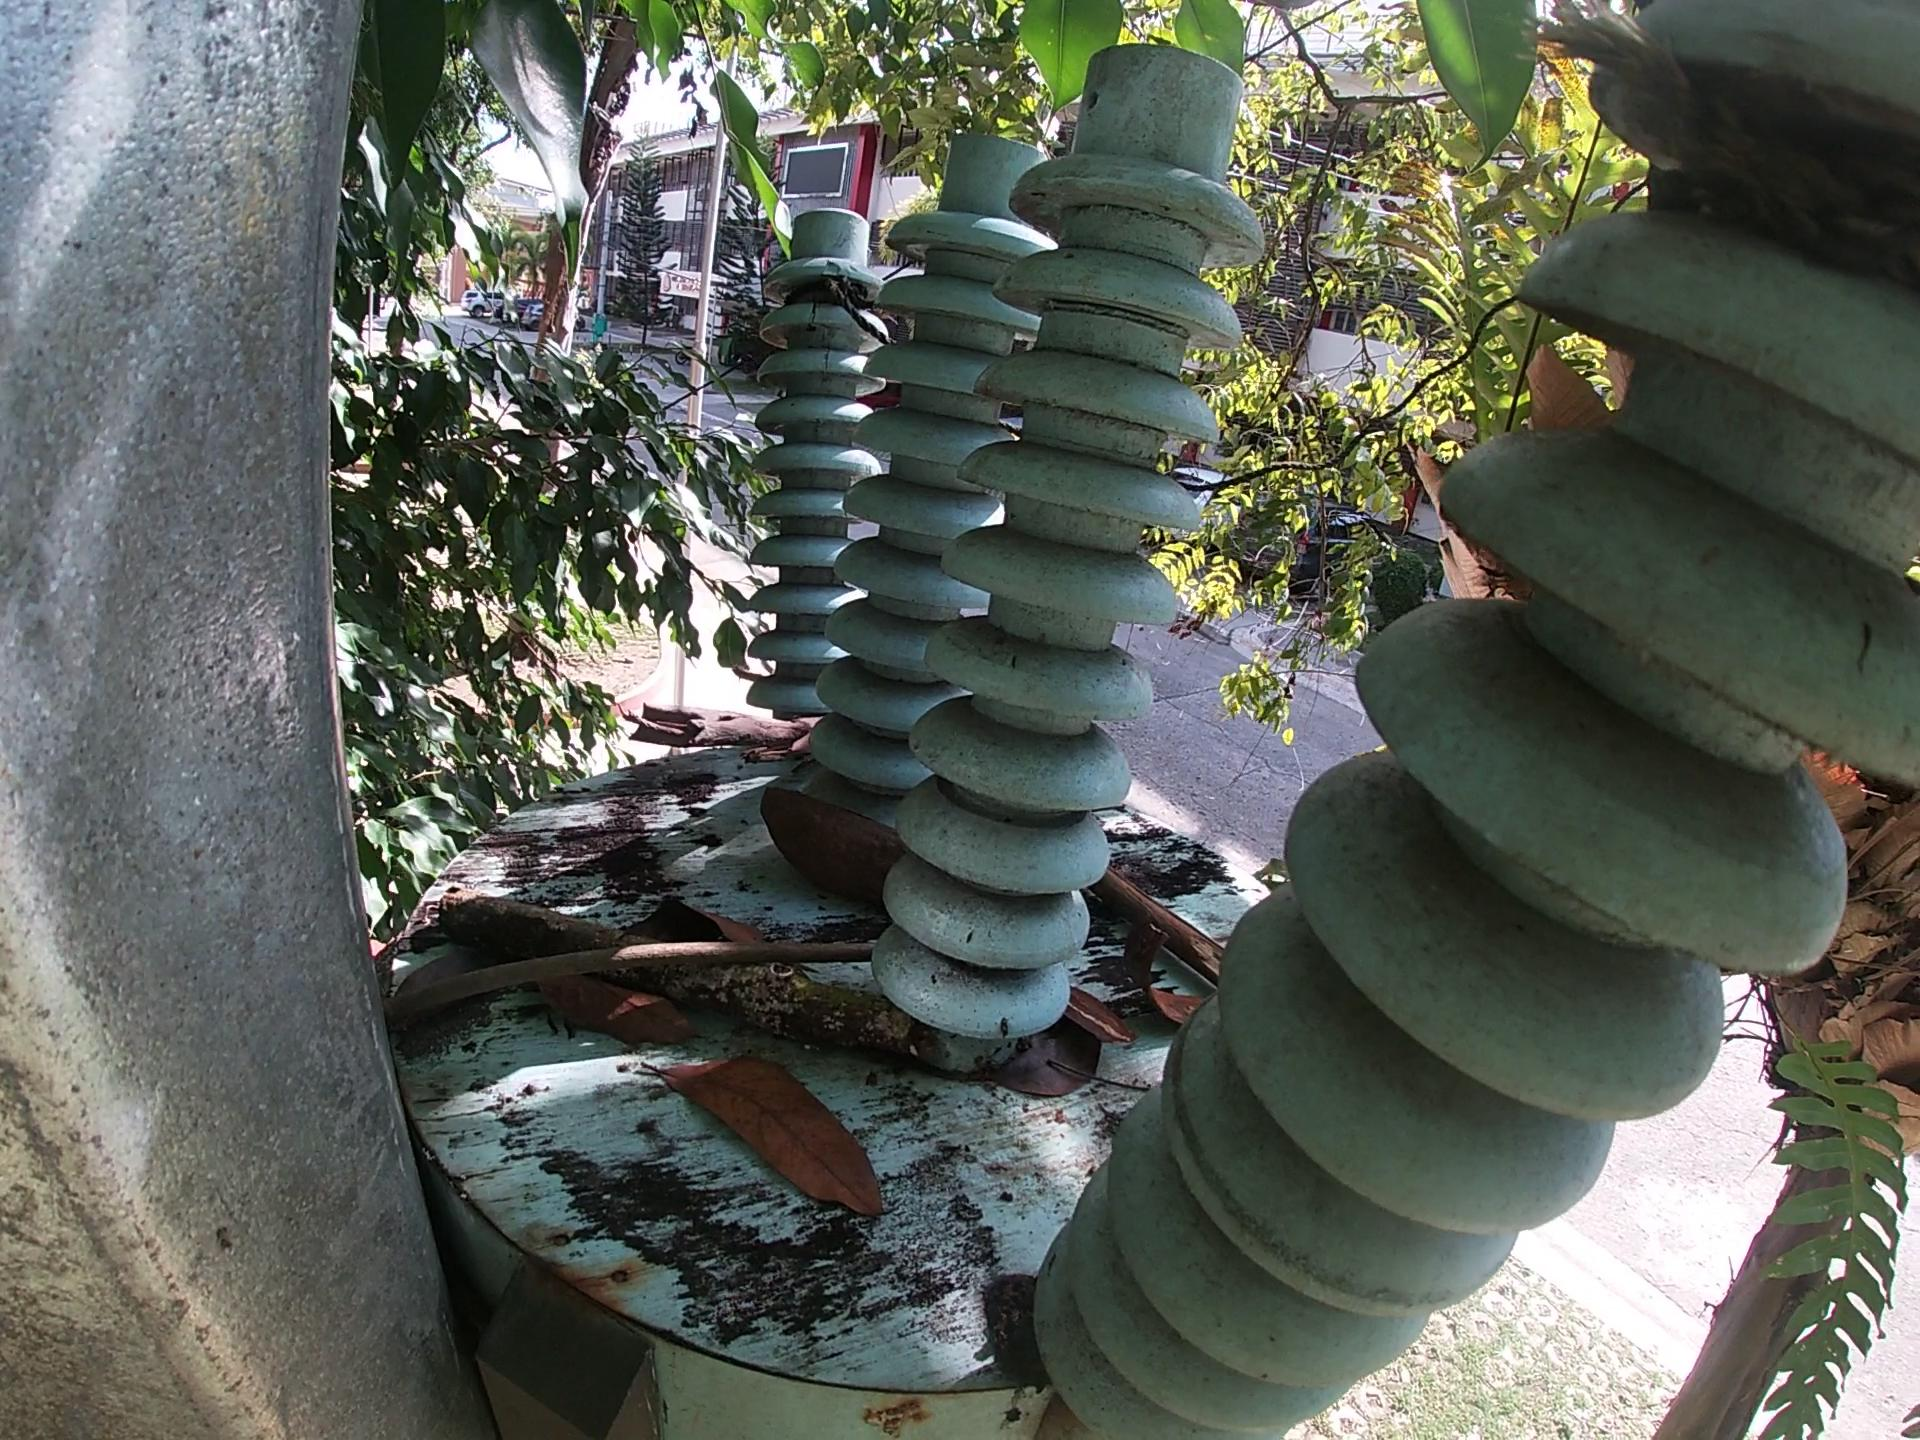leaf: (655, 1060, 912, 1227), (528, 989, 686, 1054), (992, 1032, 1096, 1116), (399, 976, 481, 1056), (624, 902, 744, 936)
mahogany fruit: (744, 782, 897, 892), (1120, 965, 1194, 1029)
tree branch: (416, 911, 924, 1053), (389, 942, 866, 1016), (612, 687, 819, 761), (1102, 868, 1215, 976), (1070, 988, 1143, 1053), (1051, 1062, 1157, 1103)
